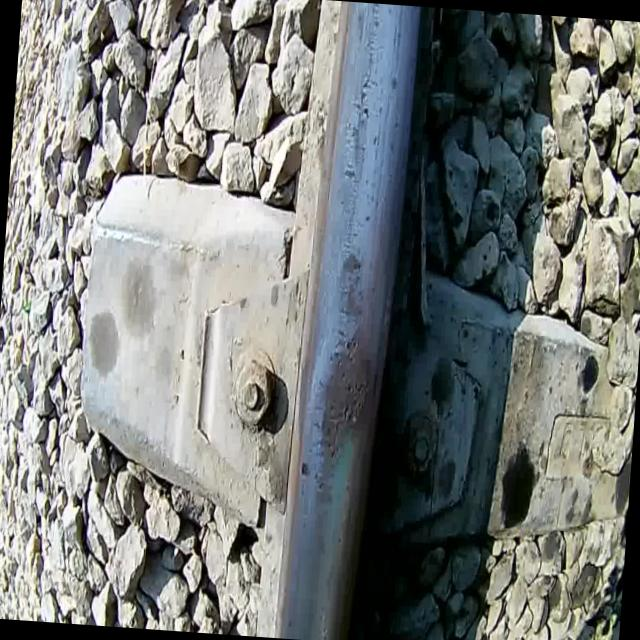Squats: (308, 315, 384, 472), (338, 278, 368, 326), (336, 247, 366, 280)
